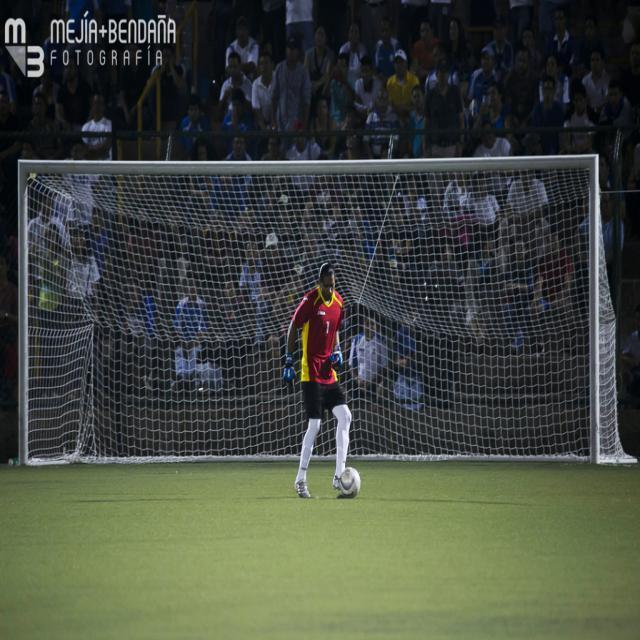football: (328, 467, 380, 499)
